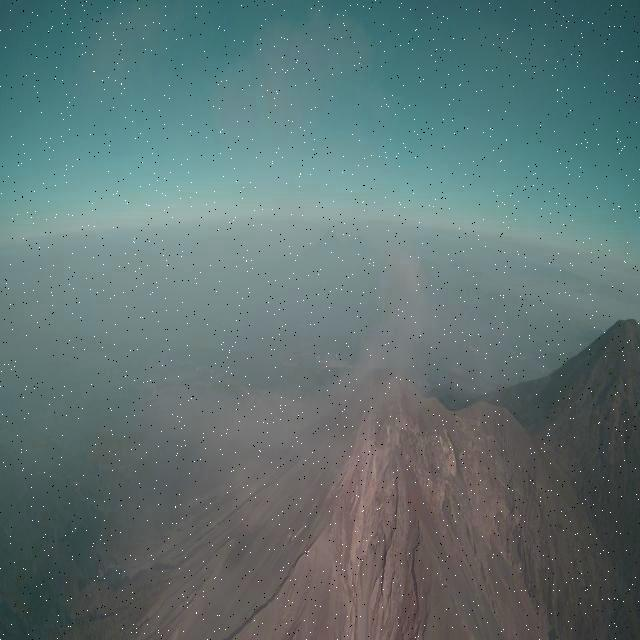Summit: (292, 362, 454, 556)
